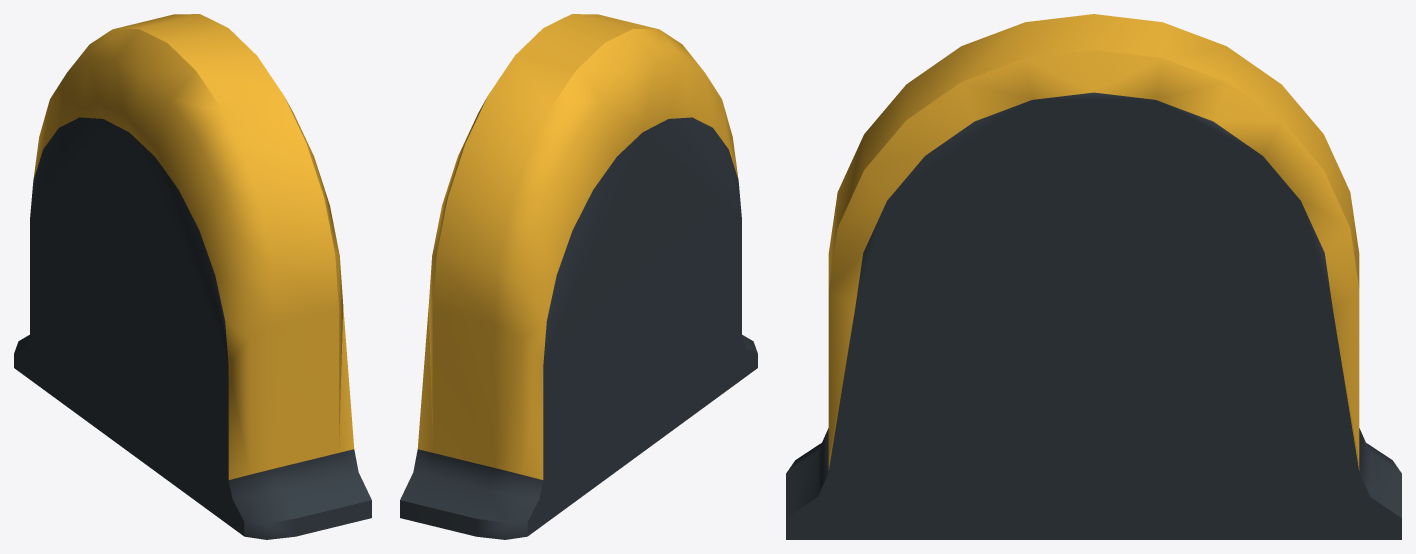
The model's file is SpeedBumpEnd.fbx.
The picture shows the model from 3 angles, left to right: view 1: azimuth 30°, elevation 25°; view 2: azimuth 150°, elevation 25°; view 3: azimuth 270°, elevation 25°; orthographic projection. The views are drawn at different scales.
Visible parts, largest first — view 1: SpeedBumpEnd_LOD0; view 2: SpeedBumpEnd_LOD0; view 3: SpeedBumpEnd_LOD0.
Boxes of the visible parts, x1,y1,x2,y2 form: SpeedBumpEnd_LOD0: [14, 14, 371, 539]; SpeedBumpEnd_LOD0: [400, 14, 757, 539]; SpeedBumpEnd_LOD0: [786, 14, 1401, 539].
Size of what is drawn, in the model's own units: 0.3 by 1 by 1.16.
